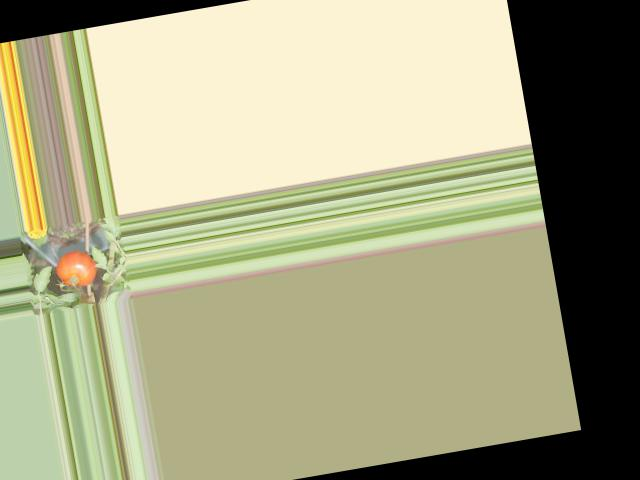tomato: (53, 247, 100, 290)
